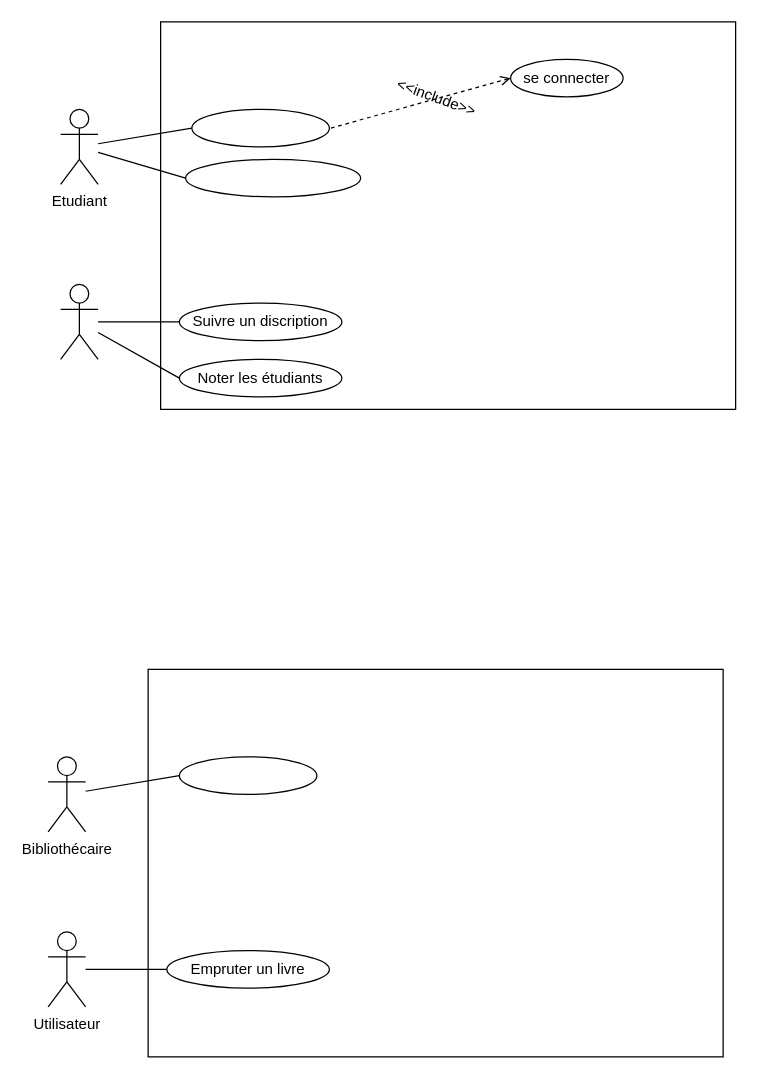
This 758x1079 diagram has some shape labels left out. Each missing label, with the centre of its shape:
Ajouter un livre: (247,775)
Consulter le solde: (260,127)
Professeur: (78,321)
Suivi un cours: (272,177)
